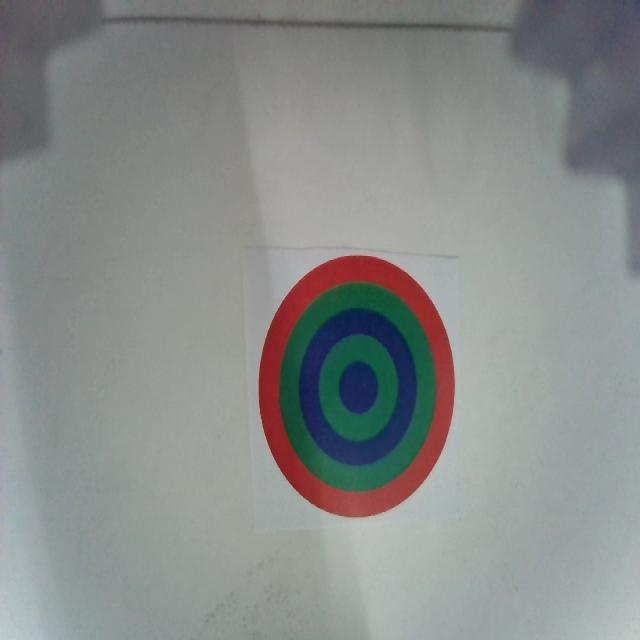cogn: (259, 255, 452, 516)
